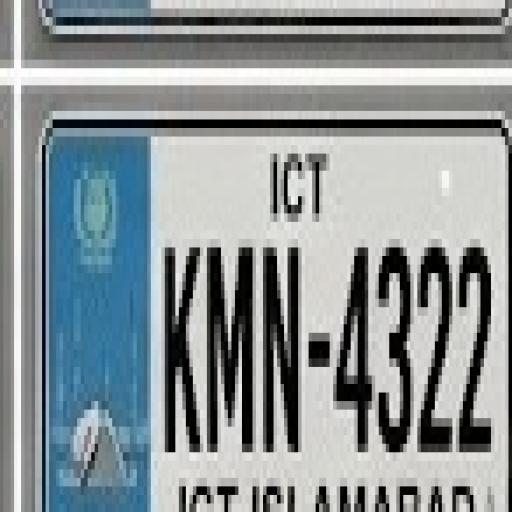2: (415, 236, 454, 472), (458, 240, 494, 454)
3: (377, 239, 410, 469)
4: (336, 233, 372, 473)
K: (159, 236, 201, 454)
M: (204, 241, 254, 458)
N: (257, 246, 302, 450)
